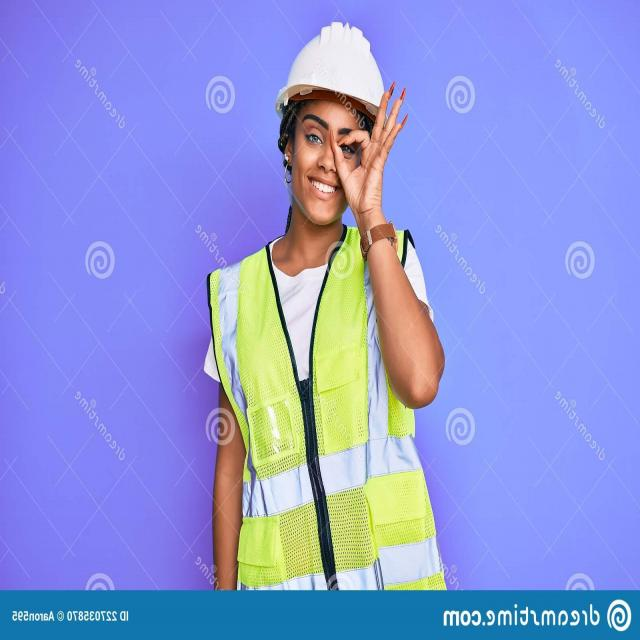Reflective-Jacket: (206, 231, 439, 583)
Safety-Helmet: (273, 18, 390, 114)
